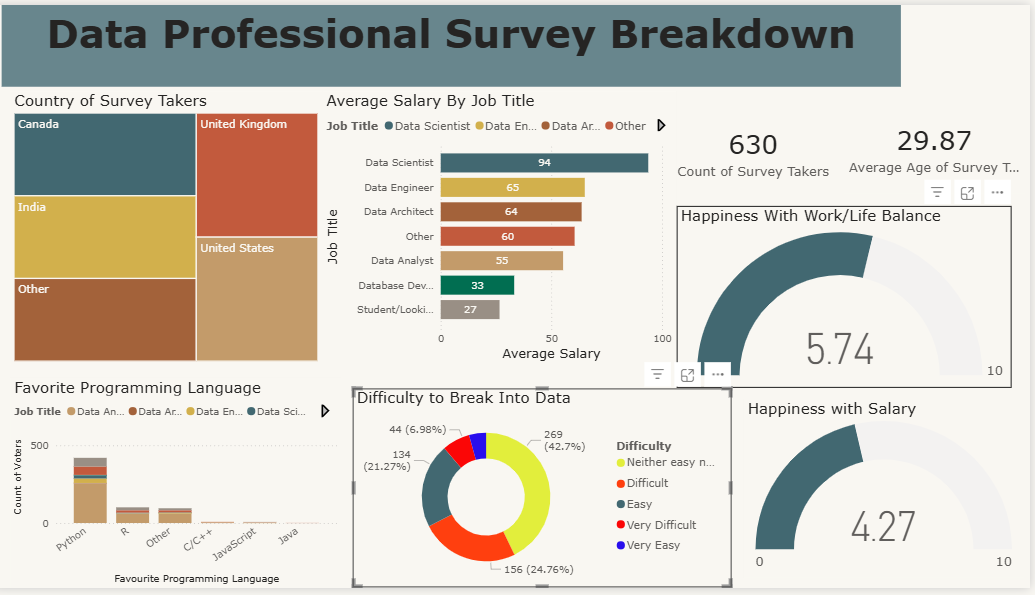

Layout of this report page (visuals, bound fields, positions):
{"tool":"powerbi","page":{"name":"Page 1","canvas":[1280,720],"ordinal":0},"visuals":[{"type":"textbox","box":[10.2,0,1110,100.5],"z":0},{"type":"card","fields":{"Values":["Count(Data Professional Survey.Unique ID)"]},"box":[828.3,120,221.6,123.3],"z":1000},{"type":"card","fields":{"Values":["Avg(Data Professional Survey.Q10 - Current Age)"]},"box":[1050,120,223.3,113.3],"z":2000},{"type":"barChart","title":"Average Salary By Job Title","fields":{"Category":["Data Professional Survey.Q1 - Which Title Best Fits your Current Role?.1"],"Y":["Avg(Data Professional Survey.Average Salary.1)"],"Series":["Data Professional Survey.Q1 - Which Title Best Fits your Current Role?.1"]},"box":[406.7,106.7,436.7,338.3],"z":3000},{"type":"columnChart","title":"Favorite Programming Language","fields":{"Category":["Data Professional Survey.Q5 - Favorite Programming Language.1"],"Y":["CountNonNull(Data Professional Survey.Unique ID)"],"Series":["Data Professional Survey.Q1 - Which Title Best Fits your Current Role?.1"]},"box":[21.7,460,408.3,260],"z":4000},{"type":"treemap","title":"Country of Survey Takers","fields":{"Group":["Data Professional Survey.Q11 - Which Country do you live in?.1"],"Values":["Count(Data Professional Survey.Q11 - Which Country do you live in?.1)"]},"box":[21.7,106.7,385,338.3],"z":5000},{"type":"gauge","title":"Happiness With Work/Life Balance","fields":{"Y":["Avg(Data Professional Survey.Q6 - How Happy are you in your Current Position with the following? (Work/Life Balance))"],"MinValue":["Min(Data Professional Survey.Q6 - How Happy are you in your Current Position with the following? (Work/Life Balance))"],"MaxValue":["Max(Data Professional Survey.Q6 - How Happy are you in your Current Position with the following? (Work/Life Balance))1"]},"box":[843.3,248.3,413.3,225],"z":6000},{"type":"gauge","title":"Happiness with Salary","fields":{"Y":["Avg(Data Professional Survey.Q6 - How Happy are you in your Current Position with the following? (Salary))"],"MinValue":["Min(Data Professional Survey.Q6 - How Happy are you in your Current Position with the following? (Salary))"],"MaxValue":["Max(Data Professional Survey.Q6 - How Happy are you in your Current Position with the following? (Salary))"]},"box":[926.7,486.7,346.7,220],"z":7000},{"type":"donutChart","title":"Difficulty to Break Into Data","fields":{"Category":["Data Professional Survey.Q7 - How difficult was it for you to break into Data?"],"Y":["CountNonNull(Data Professional Survey.Q7 - How difficult was it for you to break into Data?)"]},"box":[443.3,473.3,468.3,246.6],"z":8000}]}

Visuals, with their boxes in screenshot pixels (x1, y1, x2, y2), scaled from the page's 1280x720 canvas onto the 1035x595 screenshot:
textbox: crop(8, 0, 906, 83)
card - Count(Data Professional Survey.Unique ID): crop(670, 99, 849, 201)
card - Avg(Data Professional Survey.Q10 - Current Age): crop(849, 99, 1030, 193)
"Average Salary By Job Title" barChart: crop(329, 88, 682, 368)
"Favorite Programming Language" columnChart: crop(18, 380, 348, 594)
"Country of Survey Takers" treemap: crop(18, 88, 329, 368)
"Happiness With Work/Life Balance" gauge: crop(682, 205, 1016, 391)
"Happiness with Salary" gauge: crop(749, 402, 1030, 584)
"Difficulty to Break Into Data" donutChart: crop(358, 391, 737, 594)
